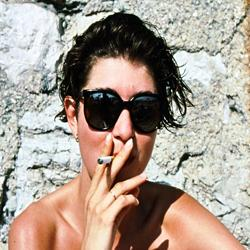smoking: (94, 151, 137, 175)
